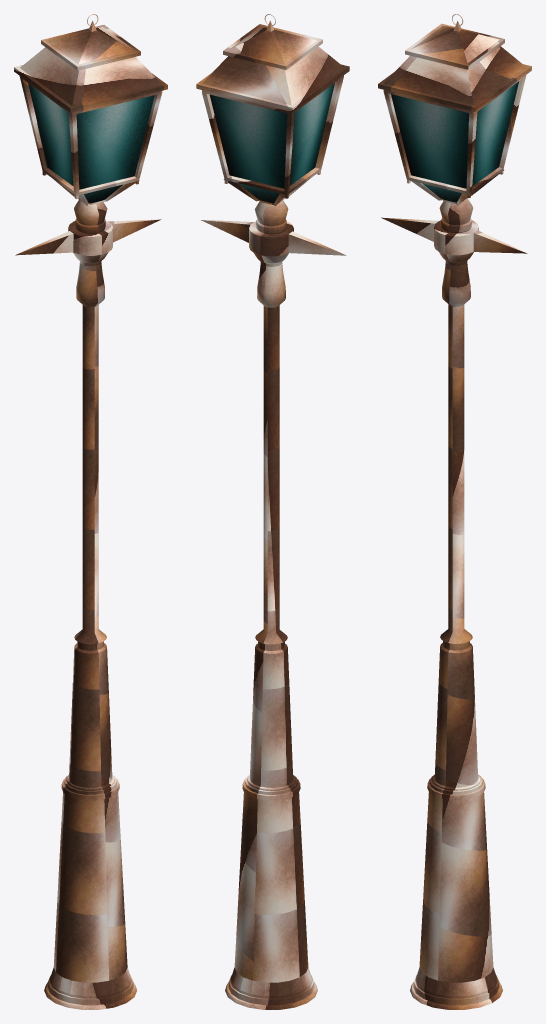
File: Street lamp.fbx
3 views of the same model, side by side, from view 1: azimuth 30°, elevation 25°; view 2: azimuth 150°, elevation 25°; view 3: azimuth 330°, elevation 25° (orthographic).
Visible parts, largest first — view 1: Lamp, Vitres; view 2: Lamp, Vitres; view 3: Lamp, Vitres.
Part boxes in pixels (<box>): Lamp: <box>14,14,167,1009</box>; Vitres: <box>28,83,154,189</box>; Lamp: <box>196,14,349,1009</box>; Vitres: <box>209,83,334,188</box>; Lamp: <box>378,14,531,1009</box>; Vitres: <box>391,81,518,188</box>.
Bounding box in the file's own units: 1.15 × 7.27 × 0.7634.
